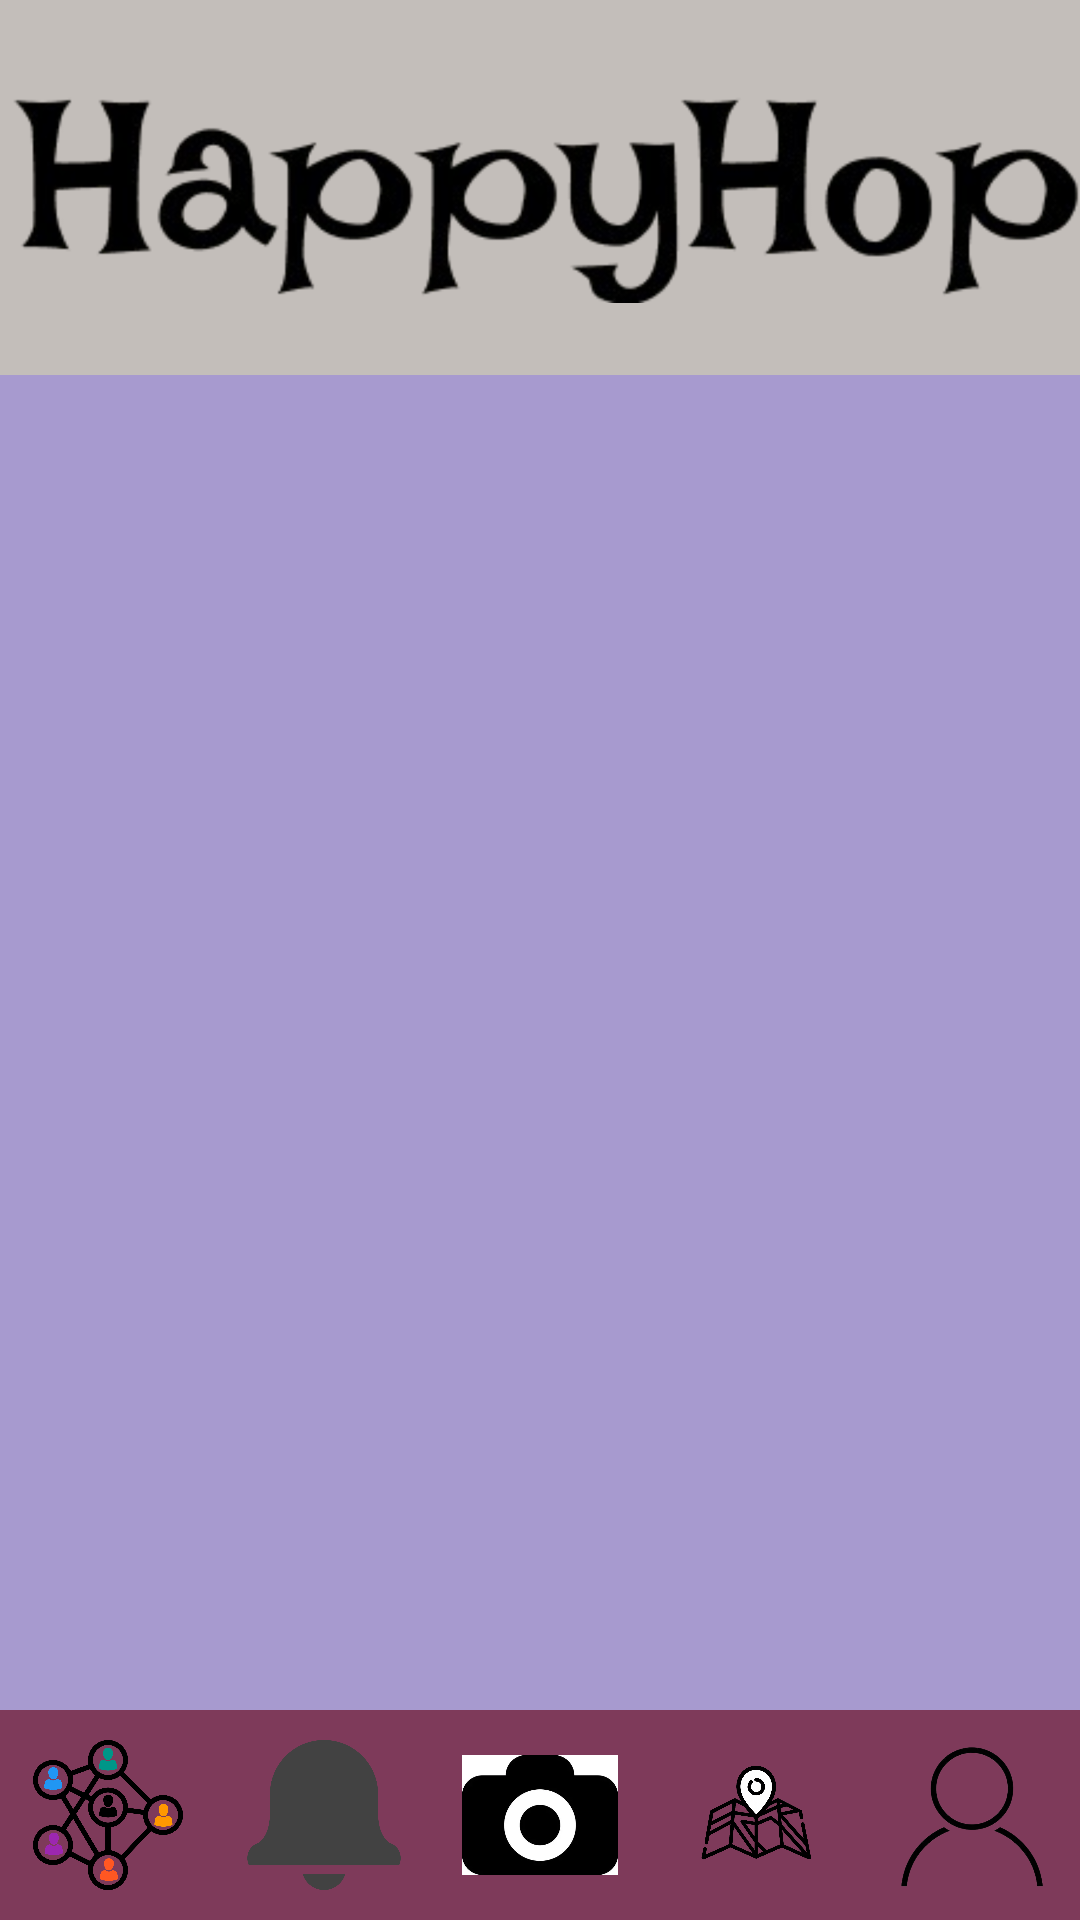

Screen size 1080 × 1920. Icon name, then its box in pixels as {"x1": x1, "y1": y1, "x2": x2, "y2": y2}:
account: {"x1": 901, "y1": 1747, "x2": 1043, "y2": 1886}
camera: {"x1": 462, "y1": 1755, "x2": 618, "y2": 1875}
community: {"x1": 33, "y1": 1740, "x2": 183, "y2": 1890}
maps: {"x1": 701, "y1": 1766, "x2": 811, "y2": 1859}
notification: {"x1": 247, "y1": 1740, "x2": 401, "y2": 1890}
